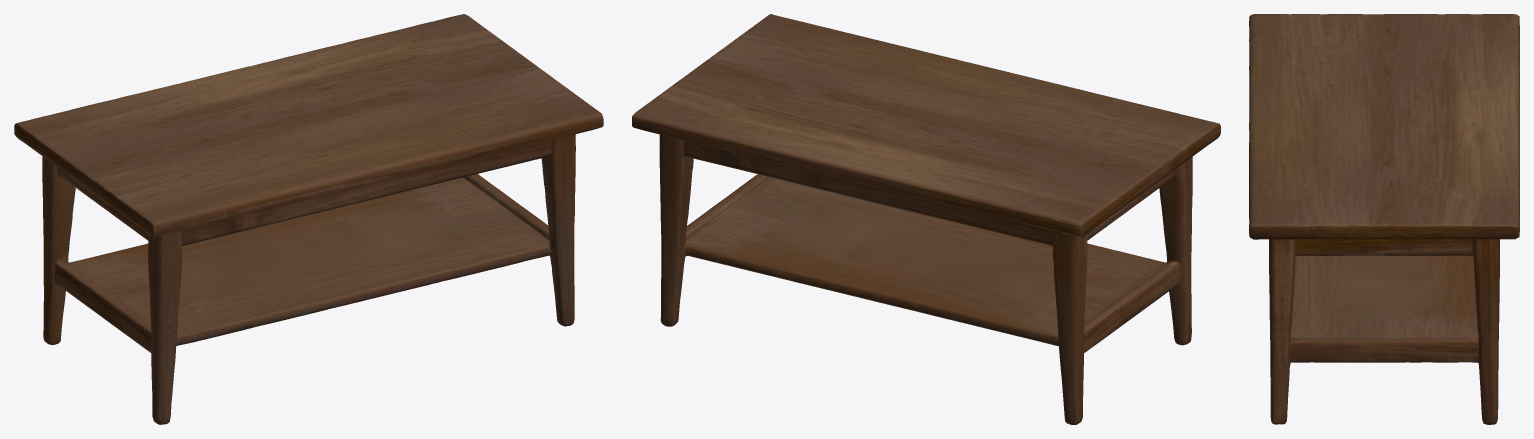
The model's file is coffee_table.glb.
3 renders of one model, left to right at view 1: azimuth 30°, elevation 25°; view 2: azimuth 150°, elevation 25°; view 3: azimuth 270°, elevation 25°, orthographic. The views are drawn at different scales.
Parts seen in each view (by area): view 1: coffee_table; view 2: coffee_table; view 3: coffee_table.
Part boxes in pixels (box(x1,y1,x2,y2)): coffee_table: box(14, 14, 603, 424); coffee_table: box(632, 14, 1220, 424); coffee_table: box(1249, 14, 1519, 424).
Size of the model in its own units: 1.2 by 0.5495 by 0.6461.
Materials: 1 (1 with a texture image).
